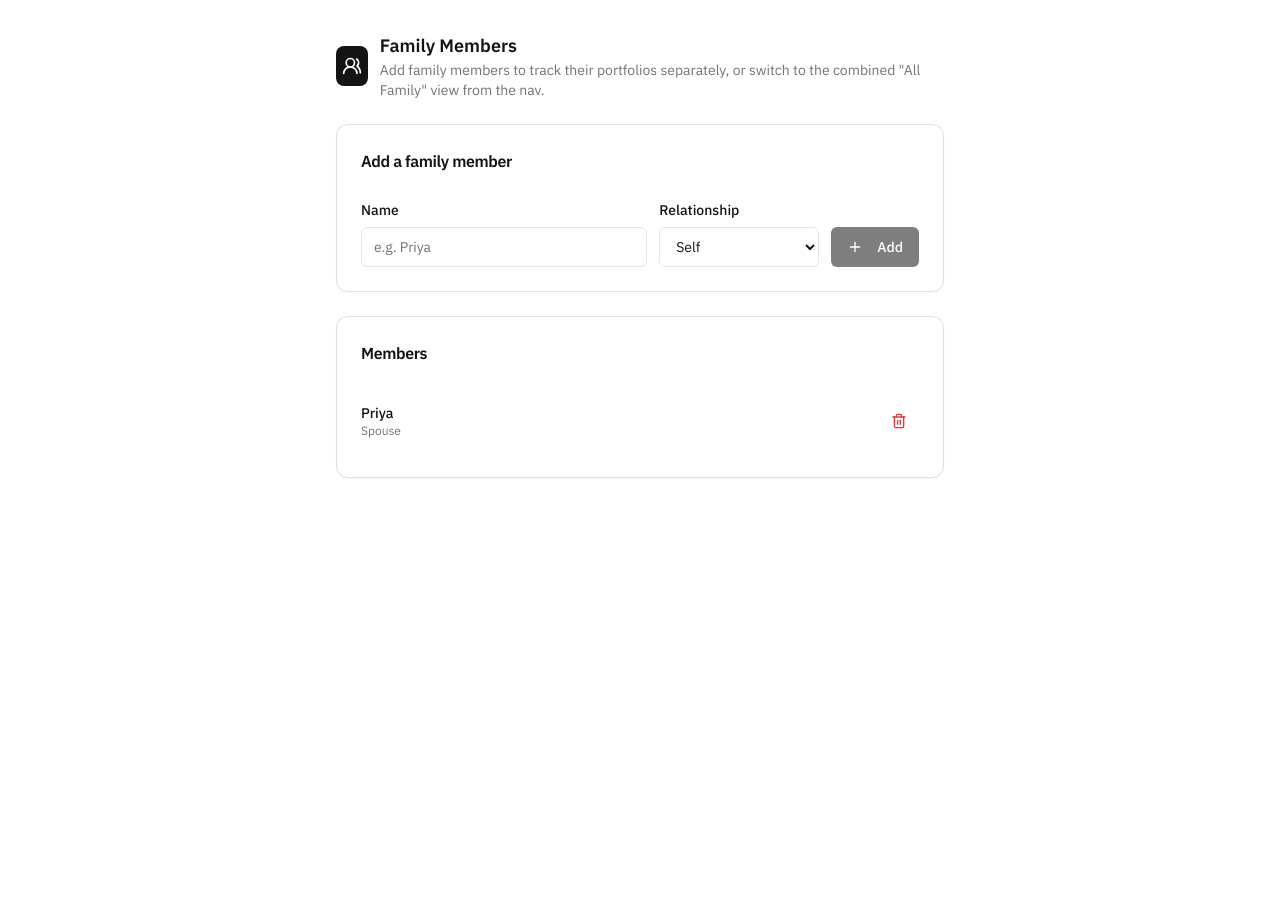
Scenario: FamilyMembers — delete confirmation › keeps the delete button disabled until the name, reason, and deleter are all filled in
Click the button named "remove priya" at (899, 421), box [879,401,919,441]
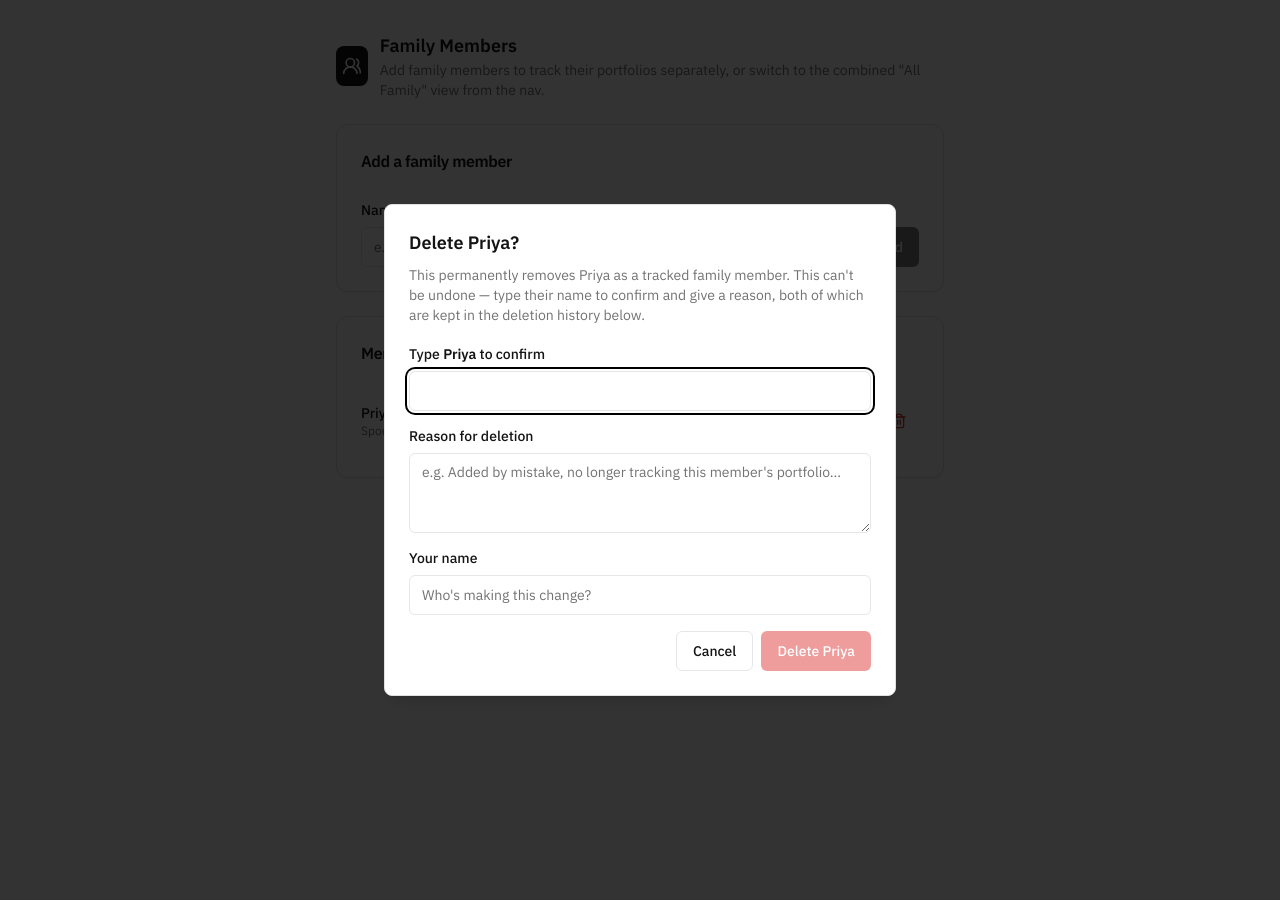
expect the button "Delete Priya" is disabled: met, box [761,631,871,671]
Type "Priya" into the field labelled "Type Priya to confirm" at (640, 391), box [409,371,871,411]
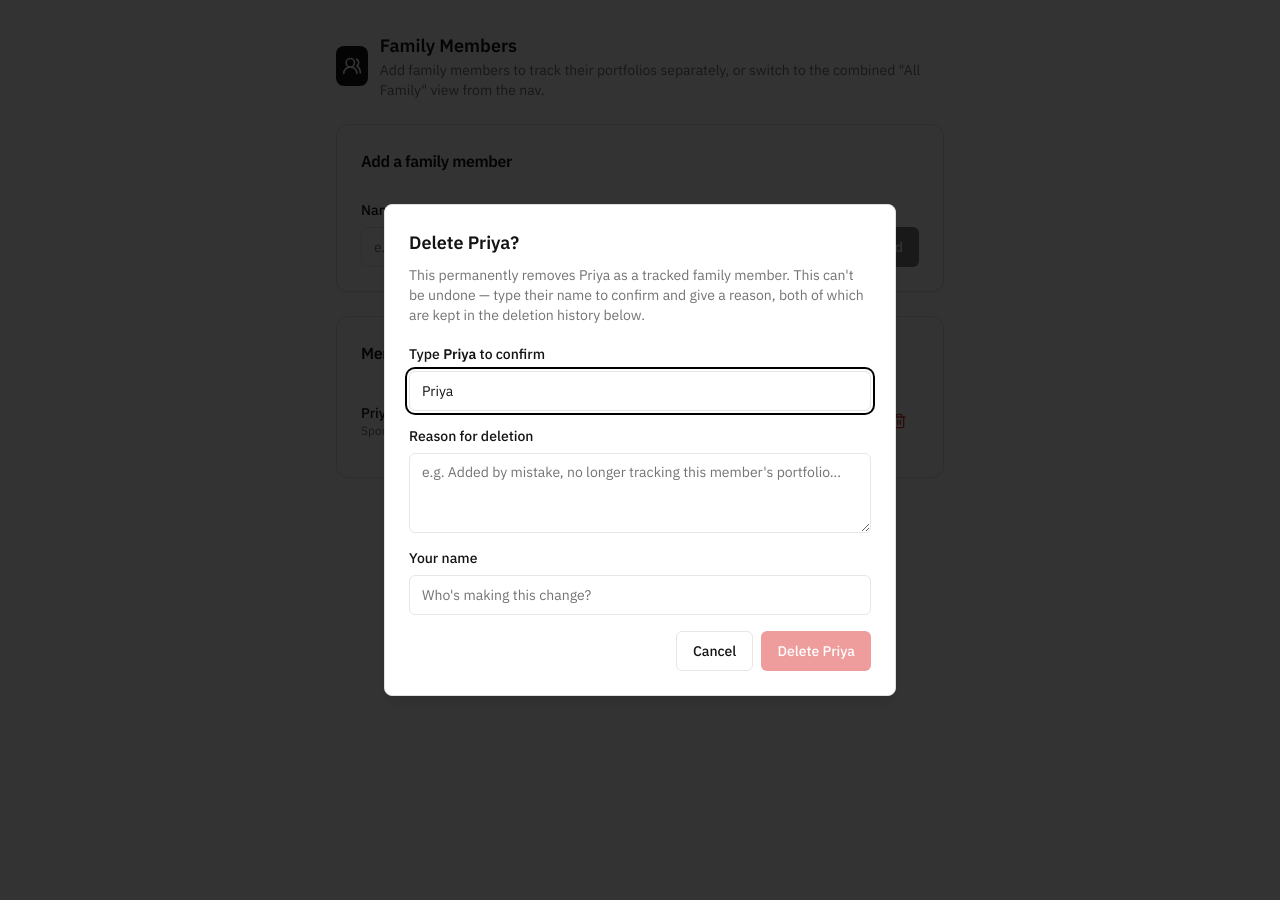
expect the button "Delete Priya" is disabled: met, box [761,631,871,671]
Replace the text in the text box labelled "Reason for deletion" with "Added by mistake" at (640, 493), box [409,453,871,533]
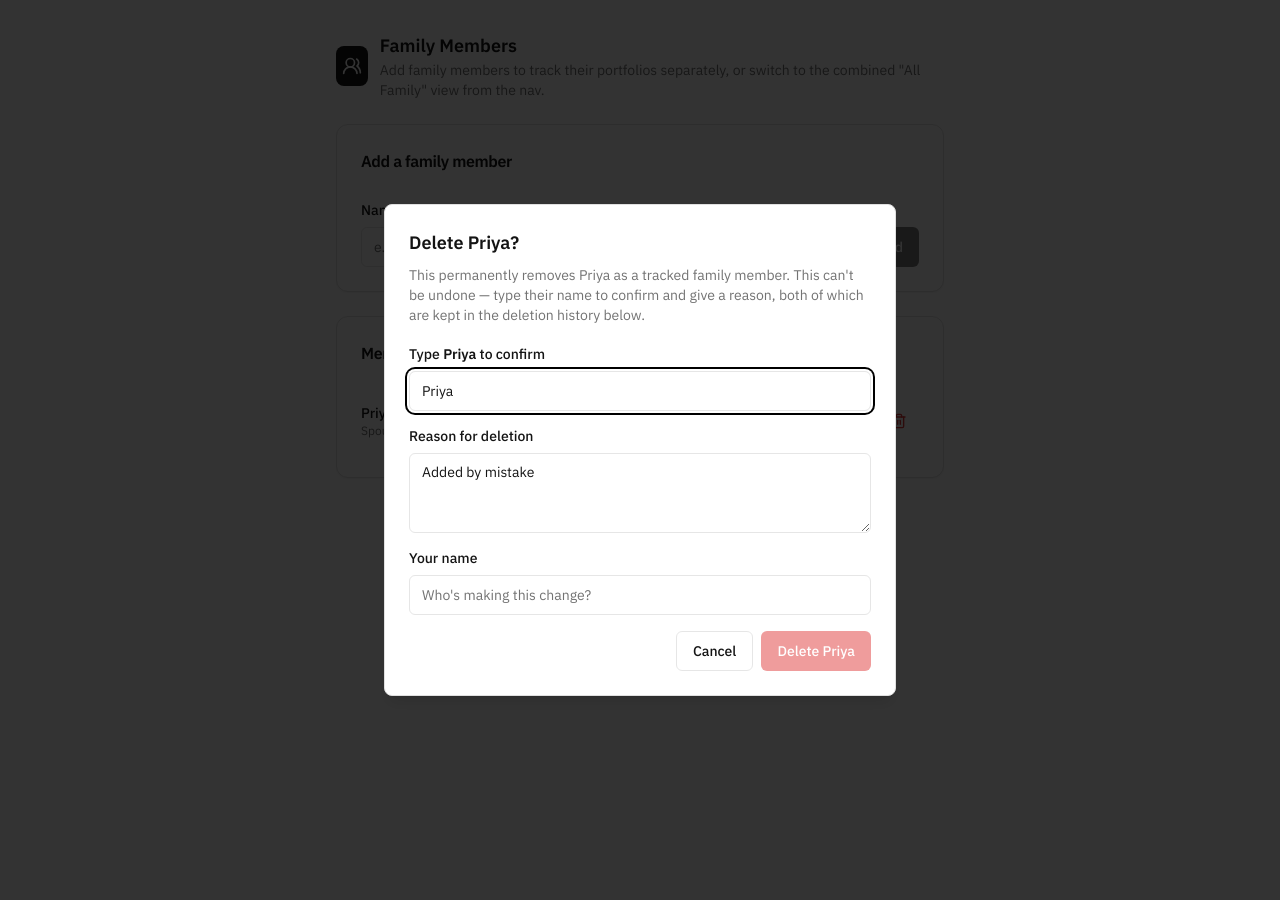
expect the button "Delete Priya" is disabled: met, box [761,631,871,671]
Type "Akash" into the field labelled "Your name" at (640, 595), box [409,575,871,615]
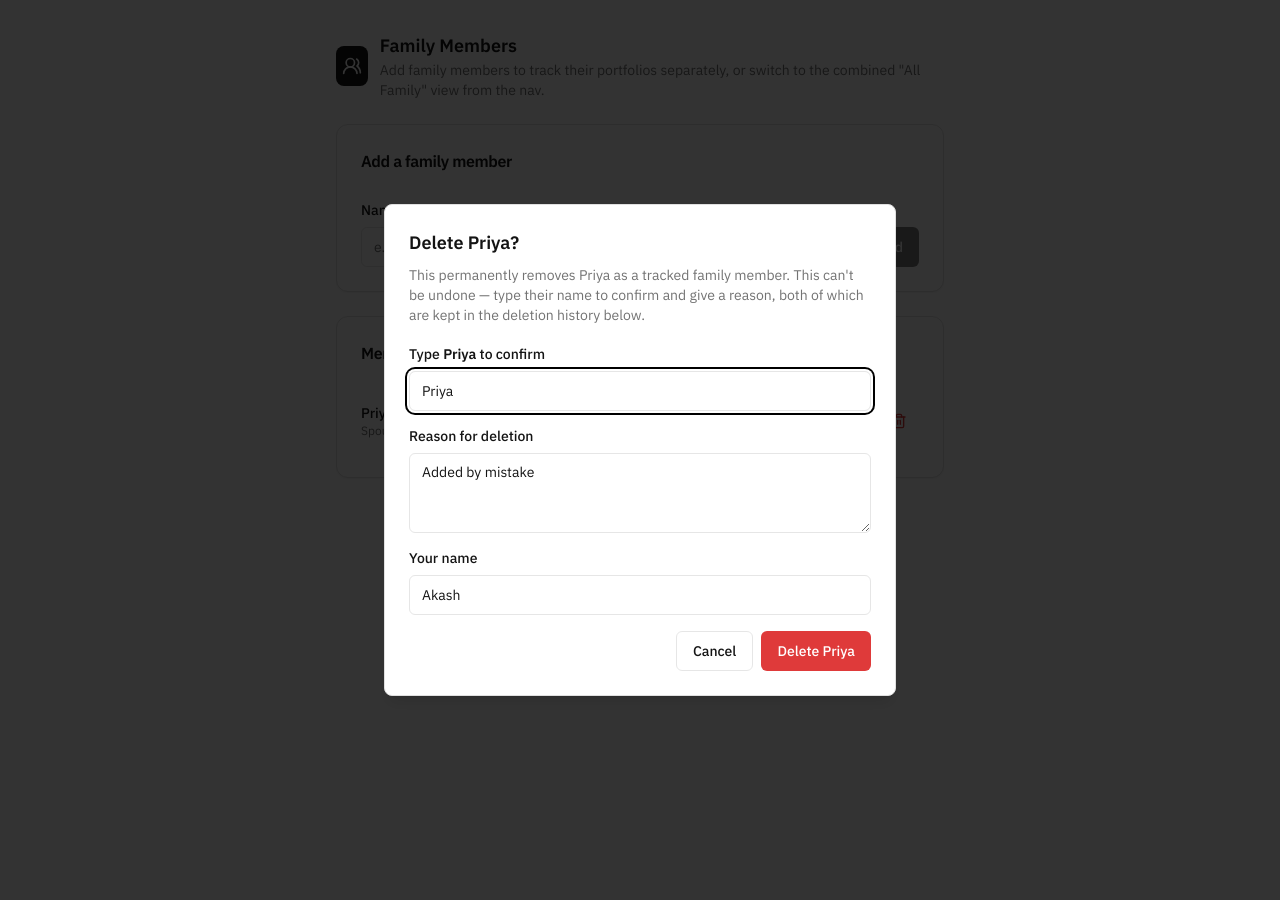
expect the button "Delete Priya" is enabled: met, box [761,631,871,671]
